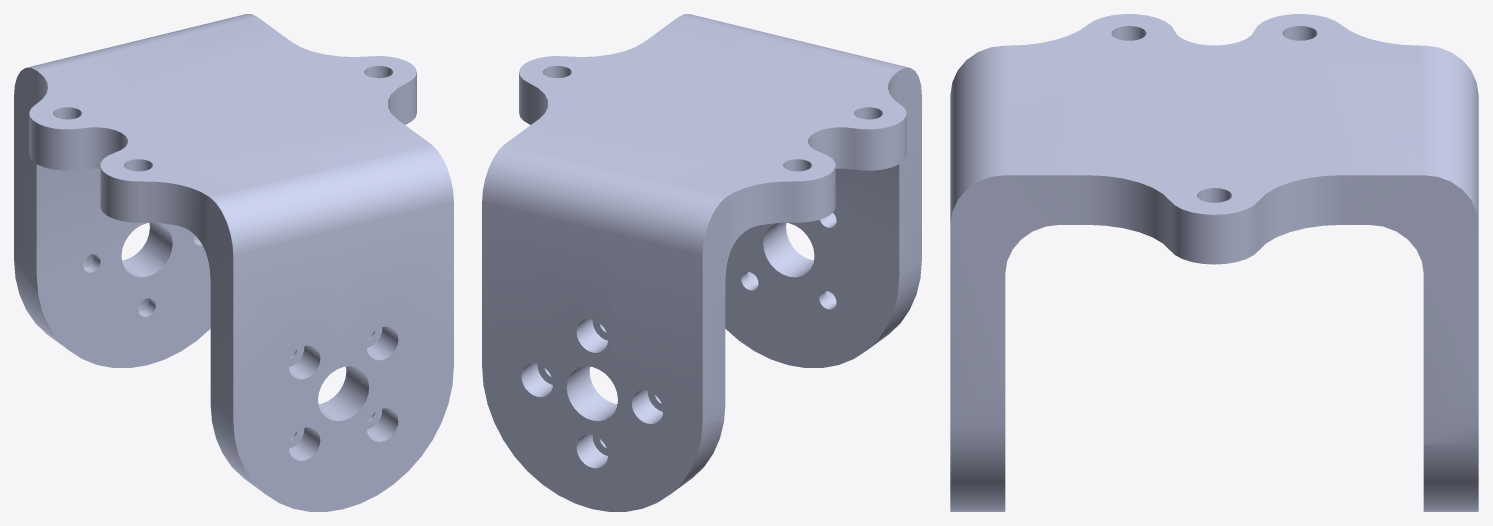
The picture shows the model from 3 angles, left to right: view 1: azimuth 30°, elevation 25°; view 2: azimuth 150°, elevation 25°; view 3: azimuth 270°, elevation 25°; orthographic projection. The views are drawn at different scales.
Parts seen in each view (by area): view 1: node0; view 2: node0; view 3: node0.
Part boxes in pixels (x1,y1,x2,y2): node0: (14,14,453,511); node0: (482,14,921,511); node0: (950,14,1478,511).
Bounding box in the file's own units: 0.0434 × 0.039 × 0.0482.
